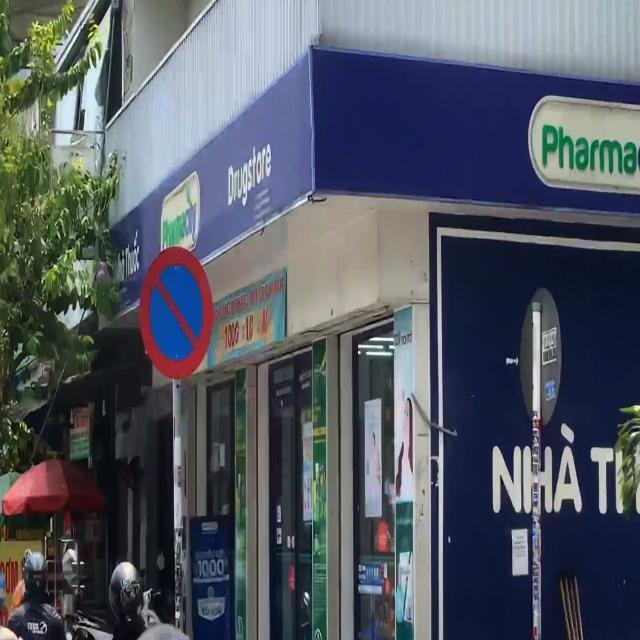Cam do: (138, 246, 218, 381)
